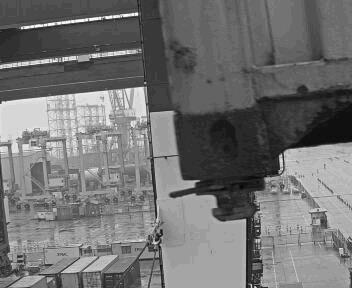twist_lock_1: (199, 138, 223, 159)
